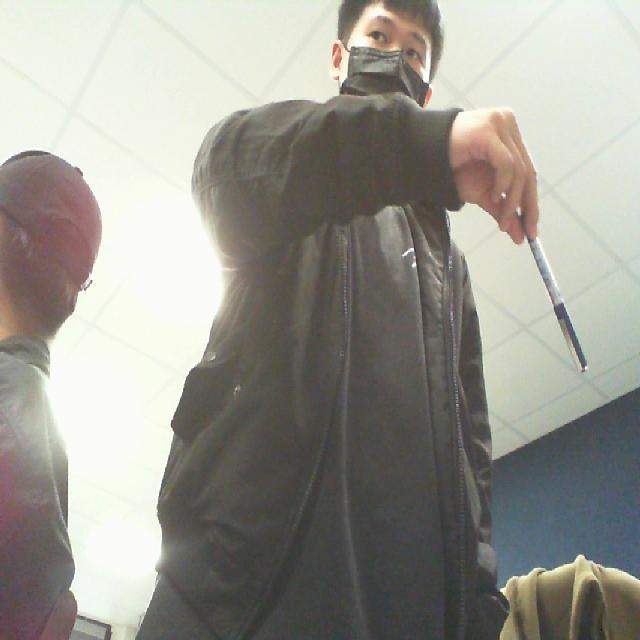Pen: (506, 205, 603, 380)
